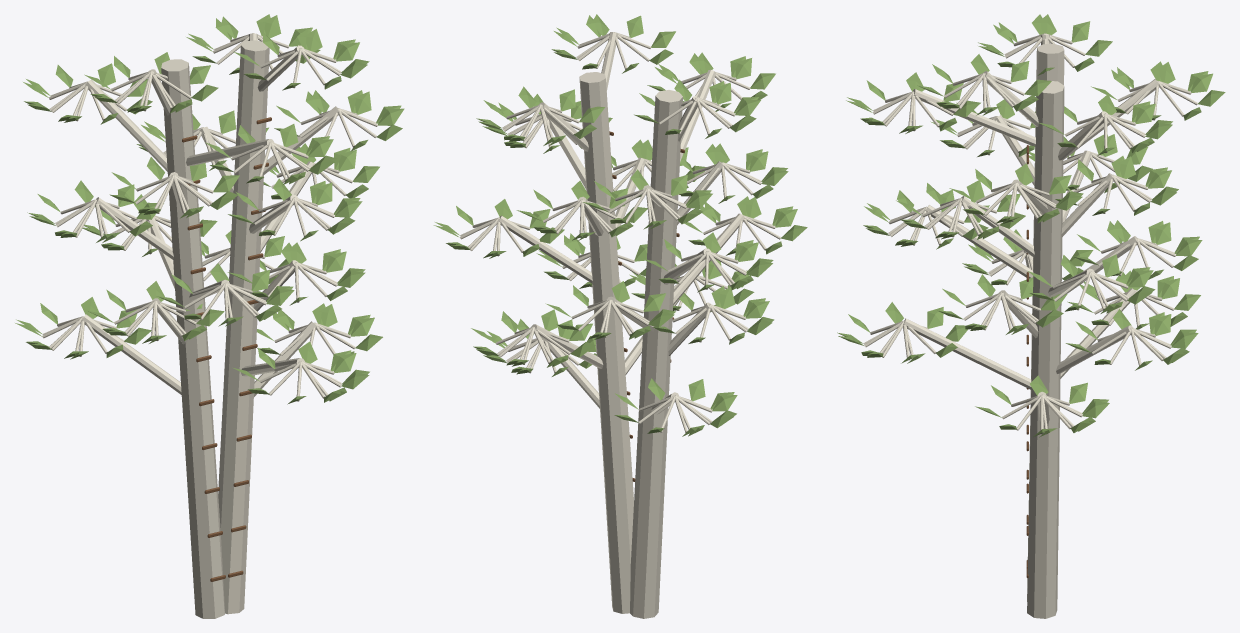
3 views of the same model, side by side, from view 1: azimuth 30°, elevation 25°; view 2: azimuth 150°, elevation 25°; view 3: azimuth 270°, elevation 25° (orthographic). The views are drawn at different scales.
Visible parts, largest first — view 1: WW-139 White barked silver birch tree batched; view 2: WW-139 White barked silver birch tree batched; view 3: WW-139 White barked silver birch tree batched.
Boxes of the visible parts, x1,y1,x2,y2 form: WW-139 White barked silver birch tree batched: (15,14,404,618); WW-139 White barked silver birch tree batched: (433,14,807,618); WW-139 White barked silver birch tree batched: (837,14,1225,618).
Size of the model in its own units: 1.32 by 2.18 by 1.37.
